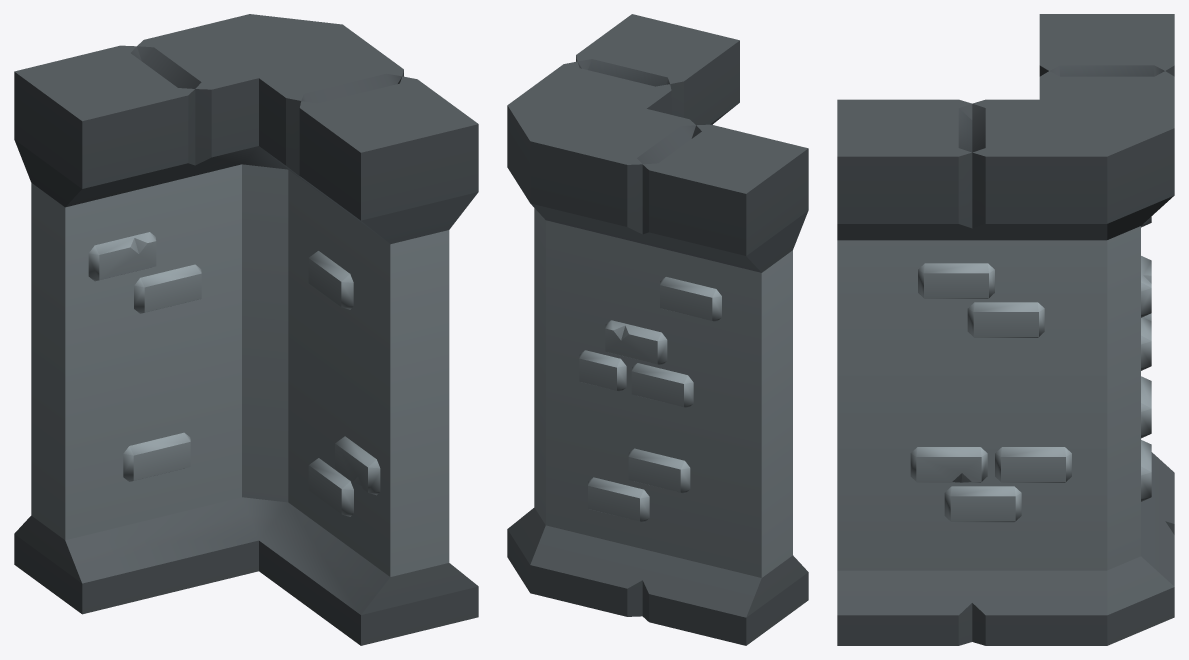
File: wall_corner.gltf
3 views of the same model, side by side, from view 1: azimuth 30°, elevation 25°; view 2: azimuth 150°, elevation 25°; view 3: azimuth 270°, elevation 25° (orthographic). The views are drawn at different scales.
Parts seen in each view (by area): view 1: wall_corner; view 2: wall_corner; view 3: wall_corner.
Boxes of the visible parts, x1,y1,x2,y2 form: wall_corner: [14, 14, 478, 645]; wall_corner: [507, 14, 808, 645]; wall_corner: [837, 14, 1174, 645].
Size of the model in its own units: 2.5 by 4 by 2.5.
Materials: 1 (1 with a texture image).
